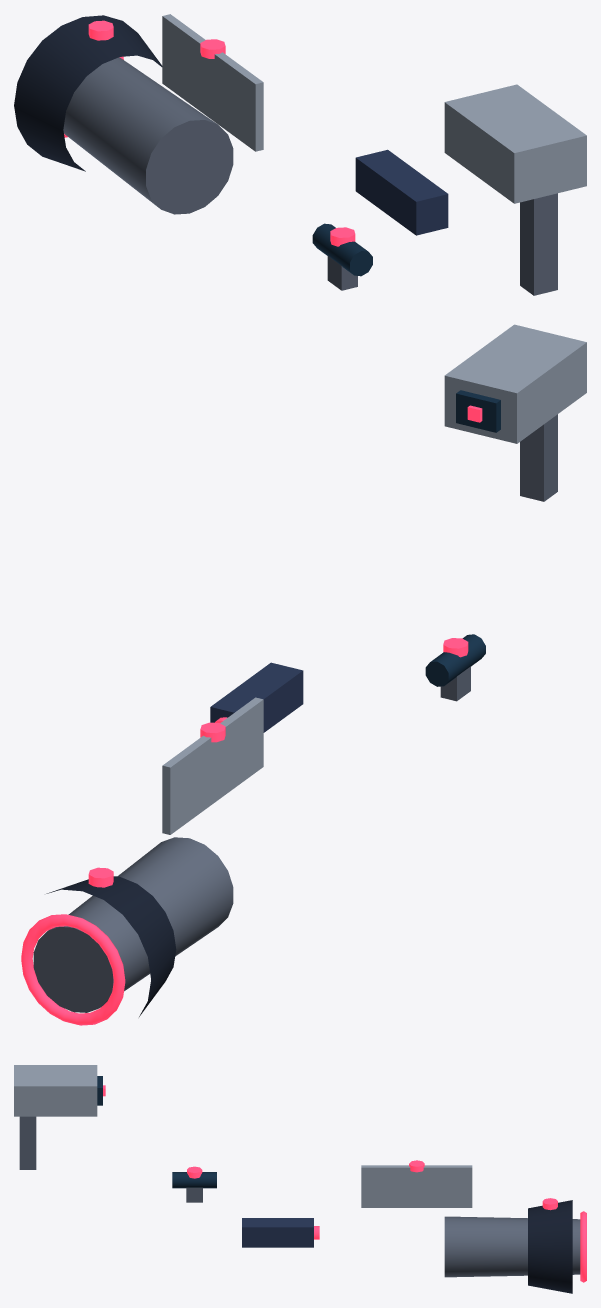
Rendered from tower_filament_optics_s7.glb.
The picture shows the model from 3 angles, top to bottom: view 1: azimuth 30°, elevation 25°; view 2: azimuth 150°, elevation 25°; view 3: azimuth 270°, elevation 25°; orthographic projection. The views are drawn at different scales.
Parts seen in each view (by area): view 1: filament_tube_ext, filament_optics_head, filament_lens_hood, filament_stab_fin, filament_rangefinder, filament_optics_mast, filament_sight_glass, filament_sight_mount, filament_up_optics_l3_stud, filament_up_optics_l6_stud, filament_up_optics_l2_stud; view 2: filament_tube_ext, filament_optics_head, filament_stab_fin, filament_lens_hood, filament_tube_ext_ring, filament_rangefinder, filament_optics_mast, filament_sight_glass, filament_optics_lens; view 3: filament_tube_ext, filament_stab_fin, filament_optics_head, filament_lens_hood, filament_rangefinder, filament_optics_mast, filament_sight_glass, filament_tube_ext_ring.
Part boxes in pixels (bbox=[...]): filament_tube_ext: bbox=[63, 57, 233, 214]; filament_optics_head: bbox=[444, 84, 586, 203]; filament_lens_hood: bbox=[14, 15, 162, 171]; filament_stab_fin: bbox=[162, 14, 263, 151]; filament_rangefinder: bbox=[355, 149, 448, 235]; filament_optics_mast: bbox=[520, 193, 557, 295]; filament_sight_glass: bbox=[312, 223, 372, 276]; filament_sight_mount: bbox=[327, 256, 357, 290]; filament_up_optics_l3_stud: bbox=[88, 20, 113, 40]; filament_up_optics_l6_stud: bbox=[200, 39, 225, 58]; filament_up_optics_l2_stud: bbox=[330, 227, 355, 246]; filament_tube_ext: bbox=[33, 837, 233, 1012]; filament_optics_head: bbox=[444, 324, 586, 443]; filament_stab_fin: bbox=[162, 697, 263, 834]; filament_lens_hood: bbox=[46, 876, 176, 1016]; filament_tube_ext_ring: bbox=[21, 914, 125, 1025]; filament_rangefinder: bbox=[210, 662, 303, 732]; filament_optics_mast: bbox=[520, 414, 557, 501]; filament_sight_glass: bbox=[425, 634, 485, 686]; filament_optics_lens: bbox=[456, 390, 500, 432]; filament_tube_ext: bbox=[444, 1216, 580, 1277]; filament_stab_fin: bbox=[361, 1165, 472, 1207]; filament_optics_head: bbox=[14, 1065, 97, 1116]; filament_lens_hood: bbox=[528, 1200, 572, 1293]; filament_rangefinder: bbox=[242, 1218, 313, 1247]; filament_optics_mast: bbox=[19, 1116, 36, 1169]; filament_sight_glass: bbox=[172, 1172, 216, 1188]; filament_tube_ext_ring: bbox=[580, 1211, 586, 1282].
Size of the model in its own units: 0.39 by 0.85 by 2.06.
